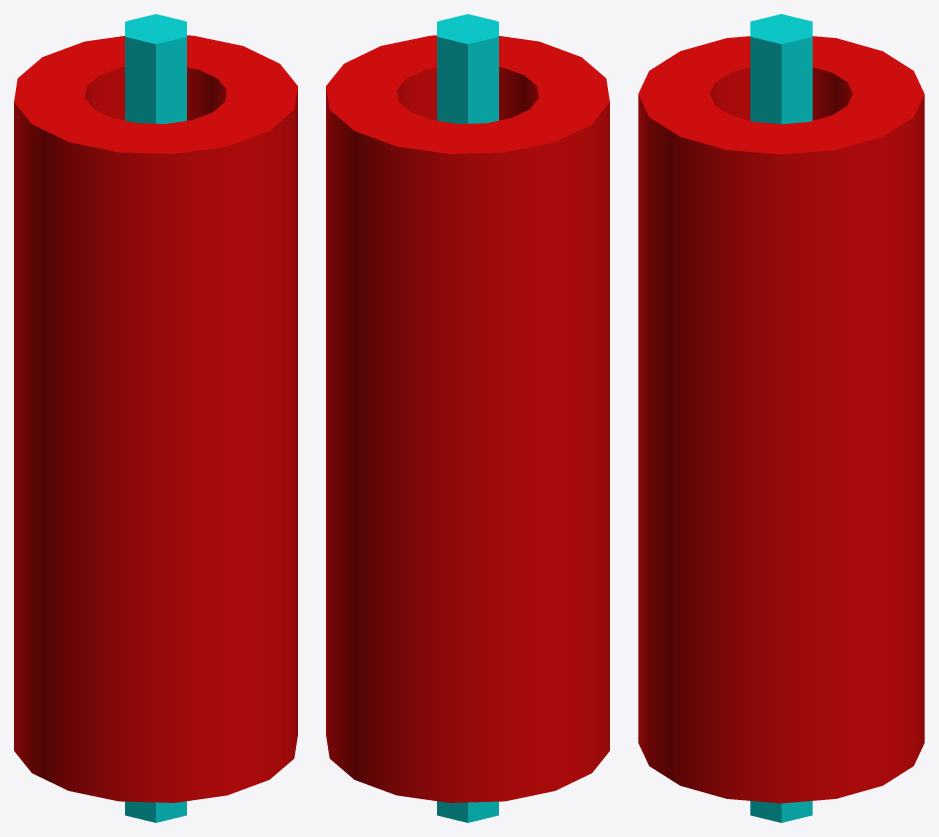
The model's file is foam_segment.fbx.
3 views of the same model, side by side, from view 1: azimuth 30°, elevation 25°; view 2: azimuth 150°, elevation 25°; view 3: azimuth 270°, elevation 25° (orthographic).
Parts seen in each view (by area): view 1: pPipe1, pCylinder1; view 2: pPipe1, pCylinder1; view 3: pPipe1, pCylinder1.
Part boxes in pixels (left/top/right/bottom): pPipe1: left=14, top=35, right=297, bottom=802; pCylinder1: left=125, top=14, right=186, bottom=822; pPipe1: left=326, top=35, right=609, bottom=802; pCylinder1: left=437, top=14, right=498, bottom=822; pPipe1: left=638, top=36, right=924, bottom=803; pCylinder1: left=750, top=14, right=812, bottom=822.
Size of the model in its own units: 20 by 60 by 20.
